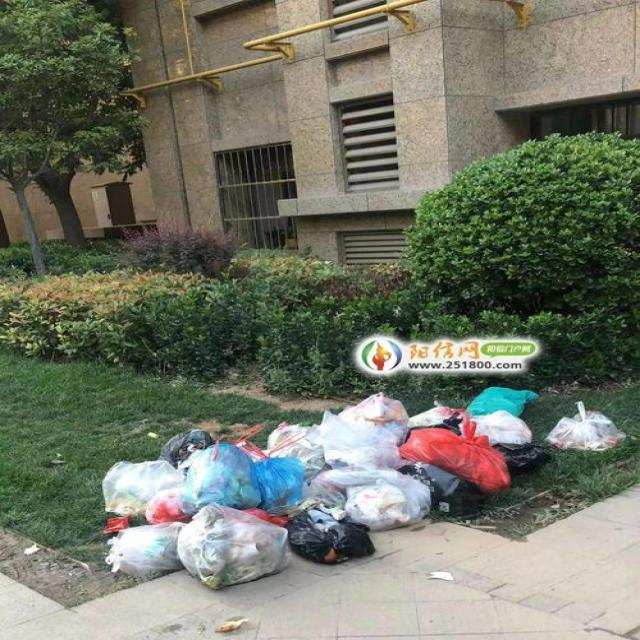garbage: (100, 384, 623, 590)
